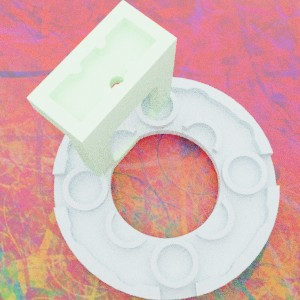lego: (52, 77, 279, 299), (26, 0, 176, 182)
